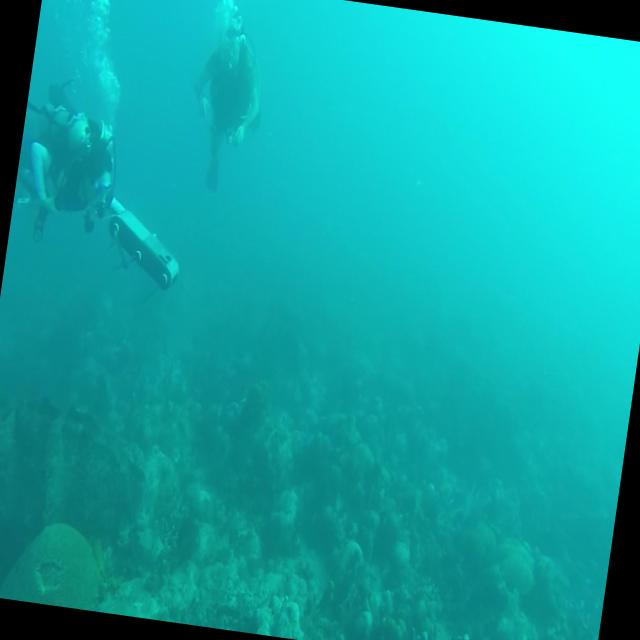human: (8, 76, 128, 250), (180, 0, 277, 197)
